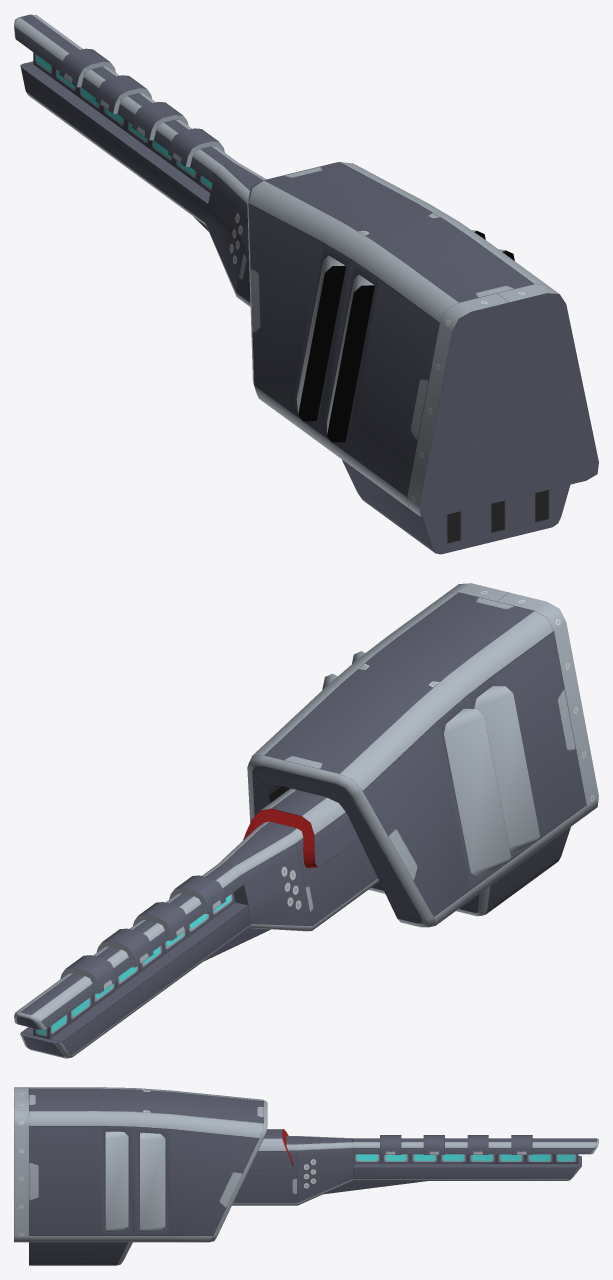
The model's file is Canon_02.FBX.
3 views of the same model, one above another, from view 1: azimuth 30°, elevation 25°; view 2: azimuth 150°, elevation 25°; view 3: azimuth 270°, elevation 25° (orthographic). The views are drawn at different scales.
Parts seen in each view (by area): view 1: Canon_02, Gun; view 2: Canon_02, Gun; view 3: Canon_02, Gun.
Boxes of the visible parts, <box> form: Canon_02: <box>247,162,598,554</box>; Gun: <box>14,14,266,306</box>; Canon_02: <box>247,583,598,927</box>; Gun: <box>14,788,379,1058</box>; Canon_02: <box>14,1087,267,1265</box>; Gun: <box>232,1129,598,1205</box>.
Bounding box in the file's own units: 1.34 × 1.48 × 5.27.
2 materials, 2 textured.
